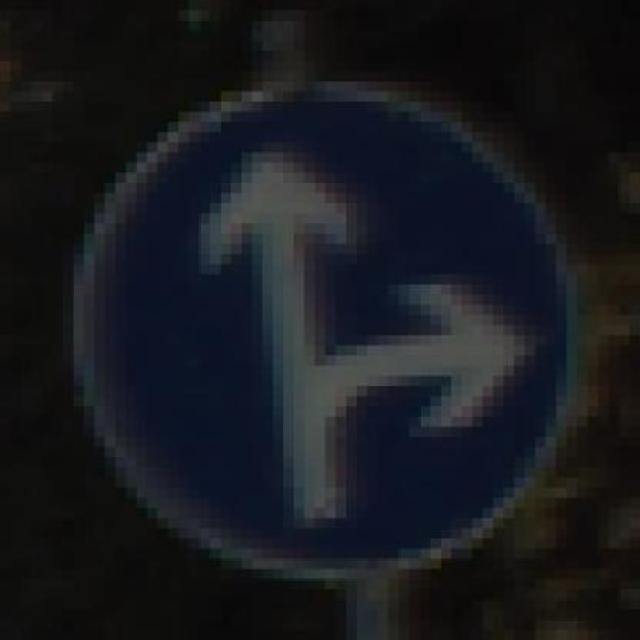Go Straight or Turn Right: (74, 71, 588, 600)
